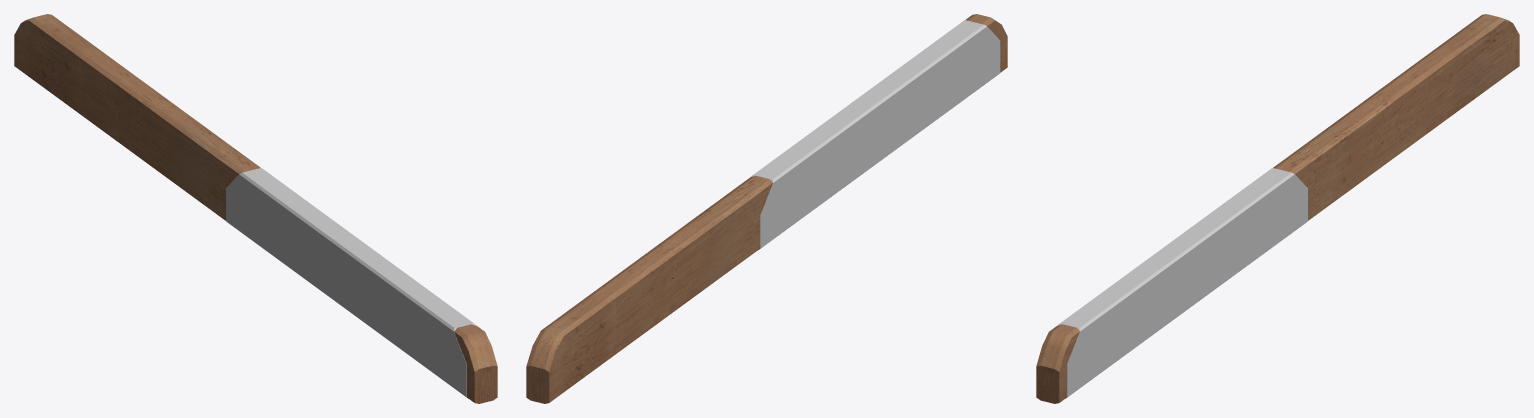
File: SM_DG_BeamB1.fbx
3 renders of one model, left to right at view 1: azimuth 30°, elevation 25°; view 2: azimuth 150°, elevation 25°; view 3: azimuth 330°, elevation 25°, orthographic.
Parts seen in each view (by area): view 1: SM_DG_BeamB1, SM_DG_BeamB1_ConvexHulls; view 2: SM_DG_BeamB1, SM_DG_BeamB1_ConvexHulls; view 3: SM_DG_BeamB1, SM_DG_BeamB1_ConvexHulls.
Part boxes in pixels (box(x1,y1,x2,y2)): SM_DG_BeamB1: box(14, 14, 497, 403); SM_DG_BeamB1_ConvexHulls: box(226, 168, 476, 398); SM_DG_BeamB1: box(526, 14, 1007, 403); SM_DG_BeamB1_ConvexHulls: box(750, 20, 1000, 249); SM_DG_BeamB1: box(1036, 14, 1519, 403); SM_DG_BeamB1_ConvexHulls: box(1057, 168, 1307, 398).
Bounding box in the file's own units: 17 × 579 × 42.1.
Materials: 2 (1 with a texture image).
